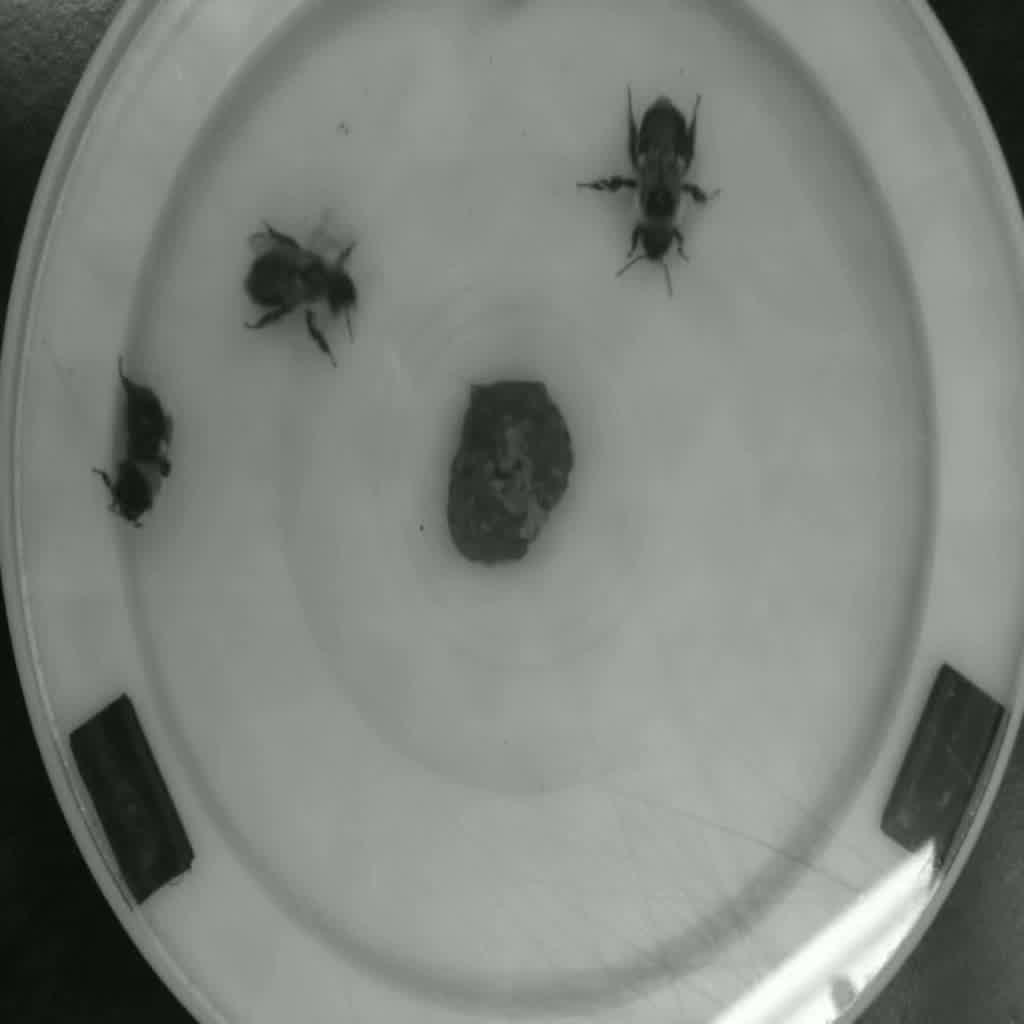bee: (606, 107, 722, 288), (75, 379, 195, 536), (234, 230, 376, 351)
